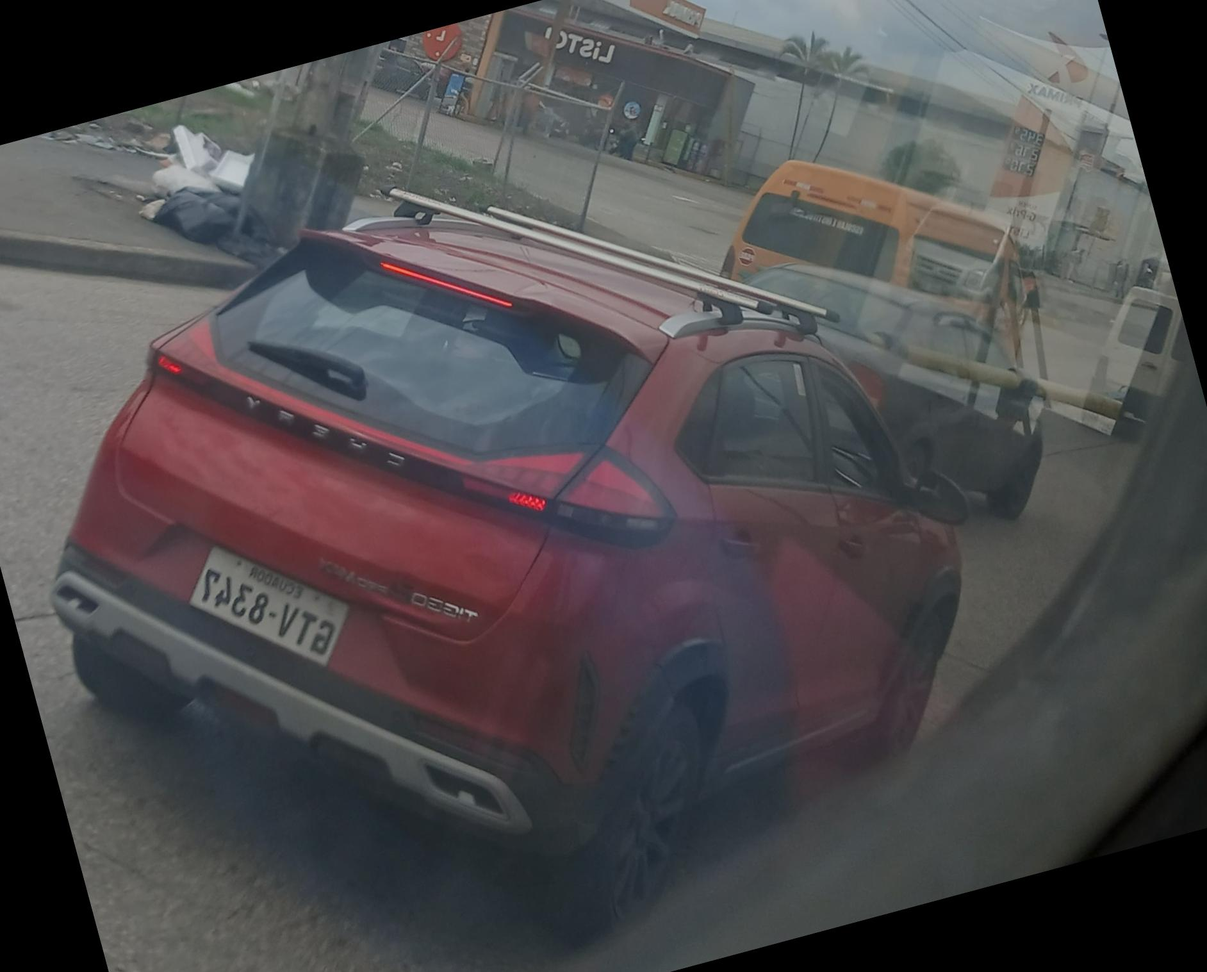license_plate: (175, 517, 361, 696)
